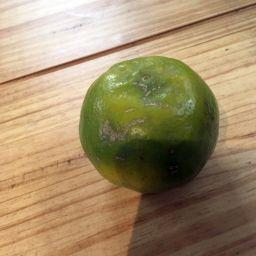Unripe: (80, 57, 218, 191)
